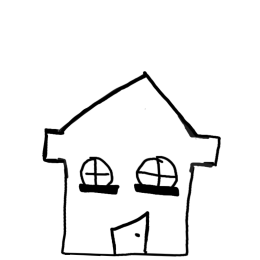bottom_placed_house: (3, 1, 260, 260)
closed_window: (129, 150, 188, 201), (77, 150, 124, 199)
door: (102, 205, 152, 257)
single_line_roof: (17, 69, 234, 172)
wall: (53, 148, 200, 260)
